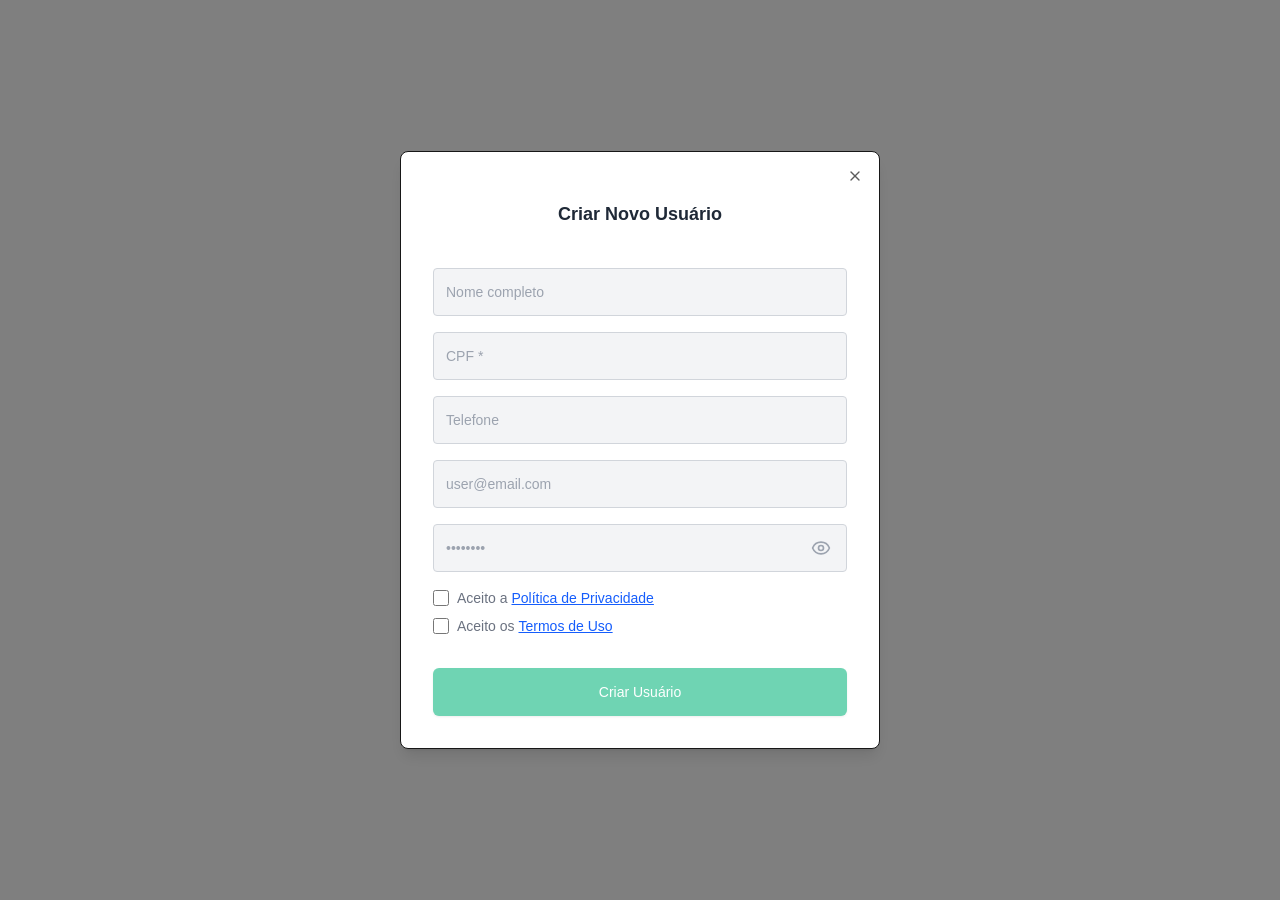
User Registration Flow - Integration › handles server validation errors
This screenshot has width=1280, height=900.
Type "Maria Oliveira" into the field with placeholder "Nome completo".
click(640, 292); type("Maria Oliveira")  # box [433,268,847,316]
Type "98765432100" into the field with placeholder "CPF *".
click(640, 356); type("98765432100")  # box [433,332,847,380]
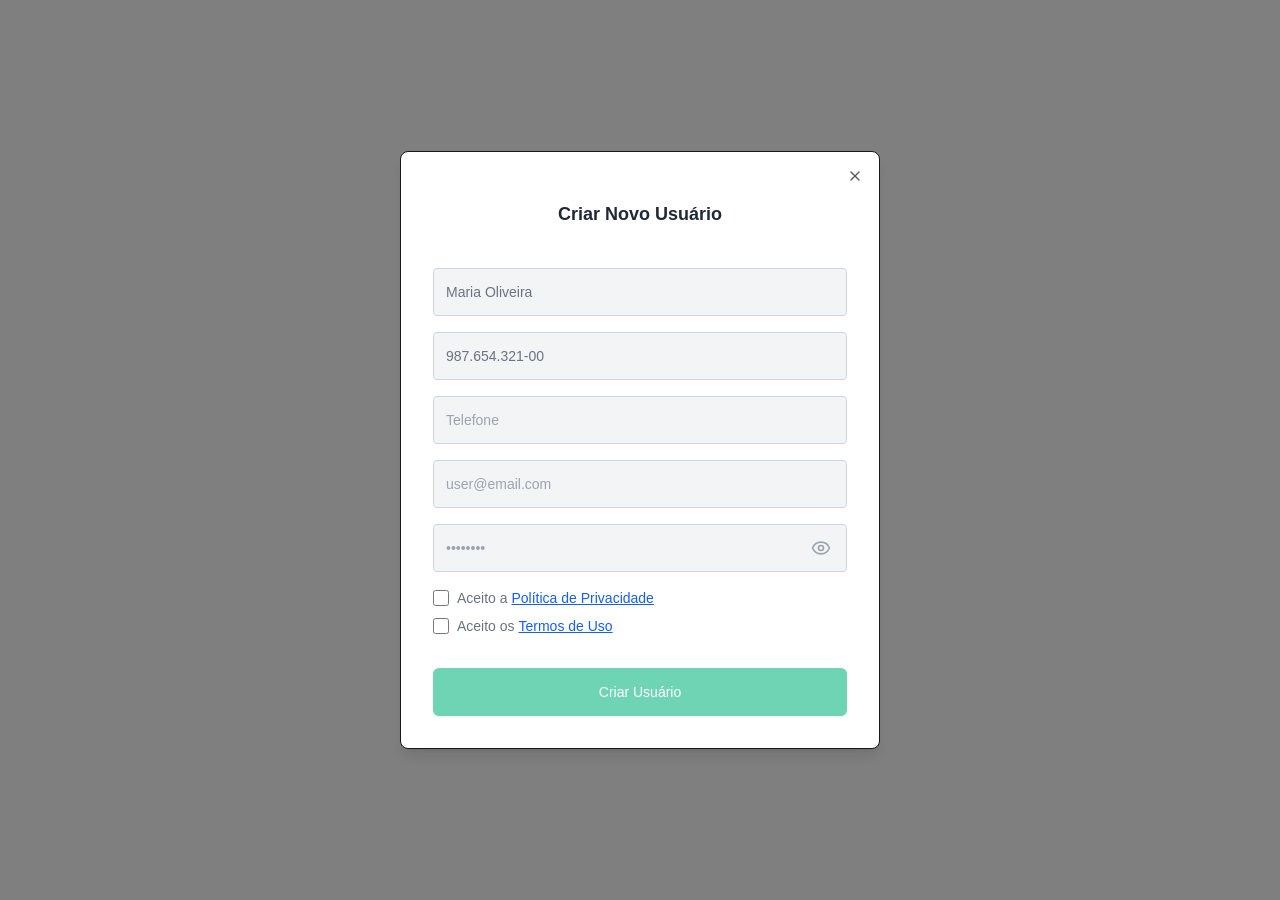
Type "maria@example.com" into the field with placeholder "user@email.com".
click(640, 484); type("maria@example.com")  # box [433,460,847,508]
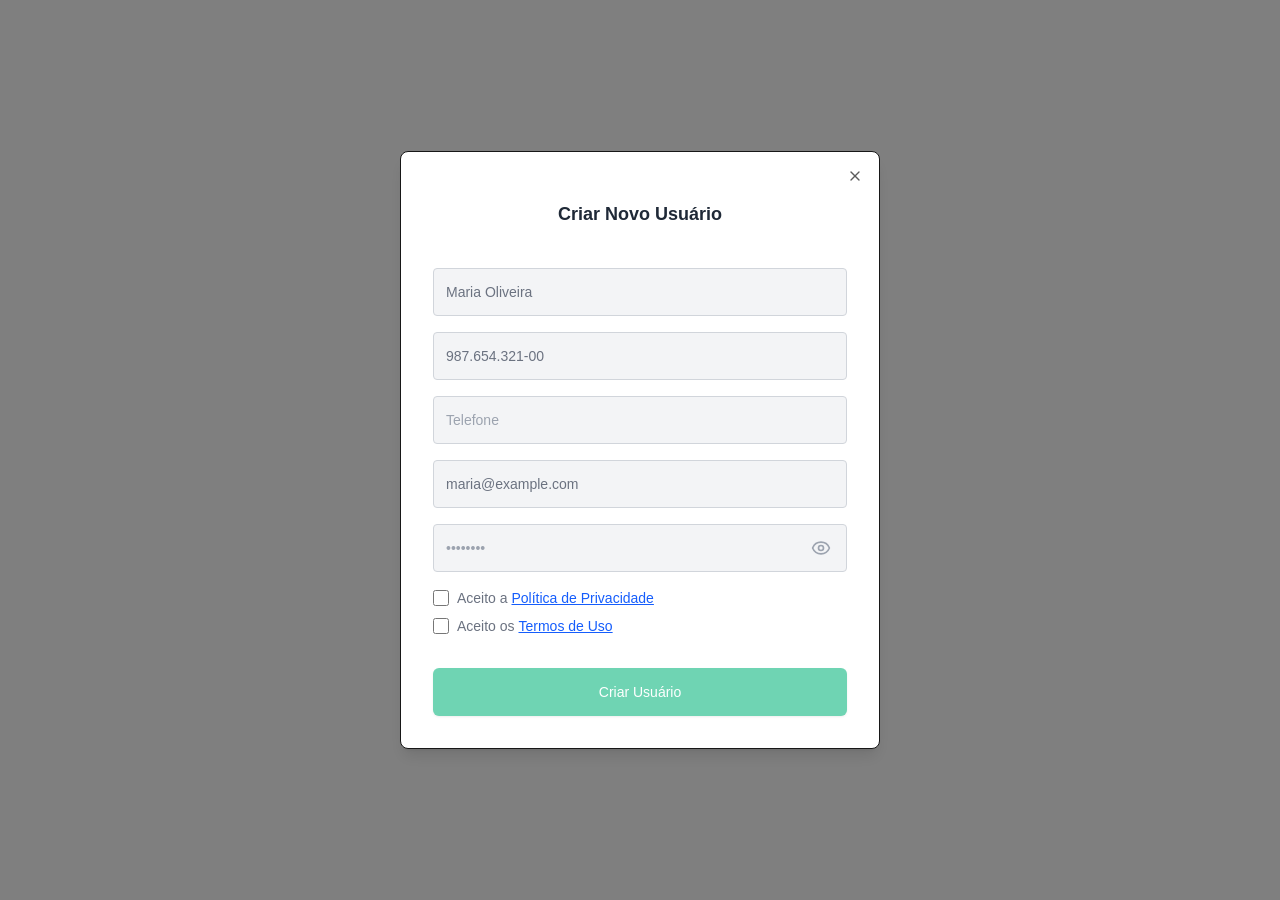
Type "Password123!" into the password field with placeholder "••••••••".
click(640, 548); type("Password123!")  # box [433,524,847,572]
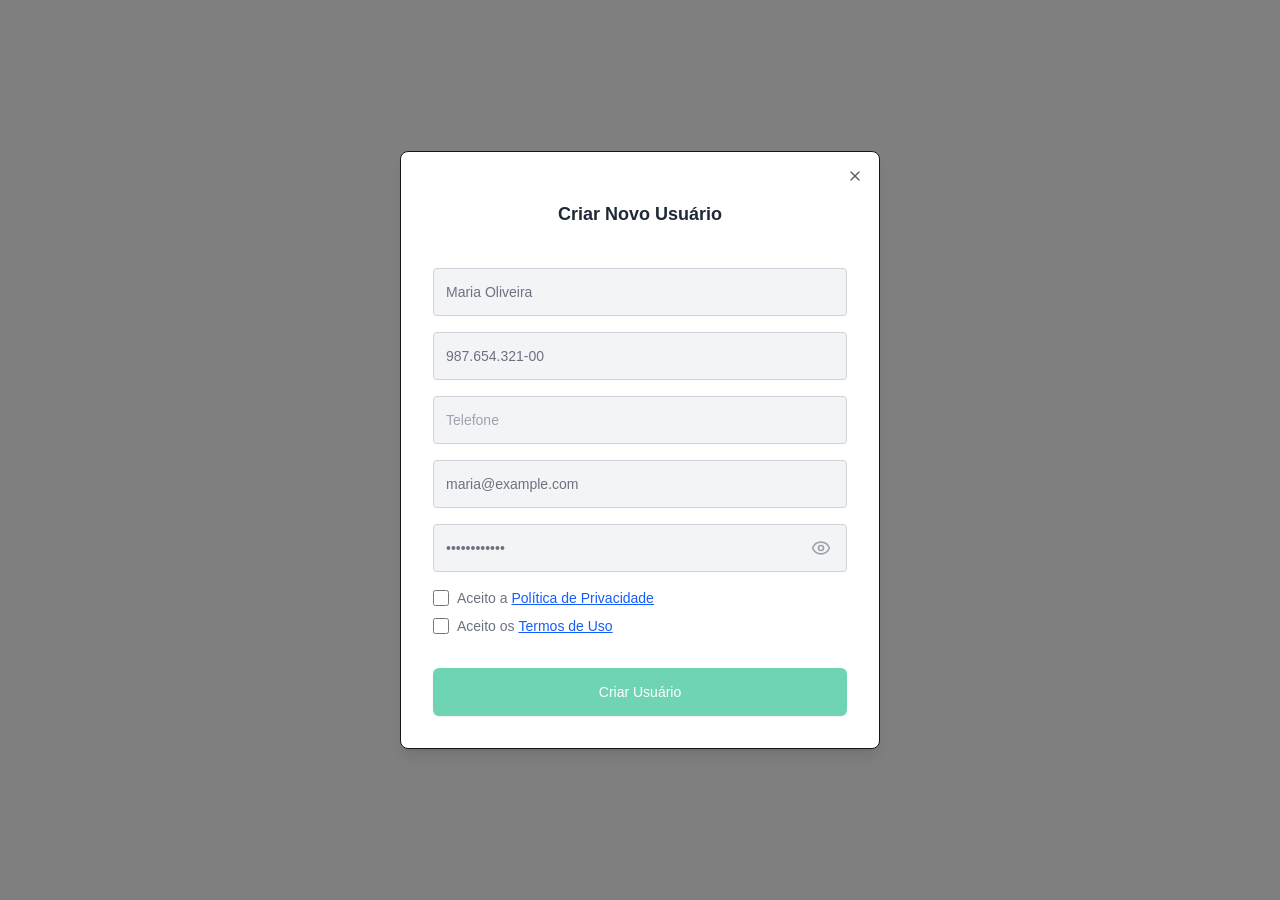
Click the checkbox labelled "Aceito a Política de Privacidade".
click(441, 598)  # box [433,590,449,606]
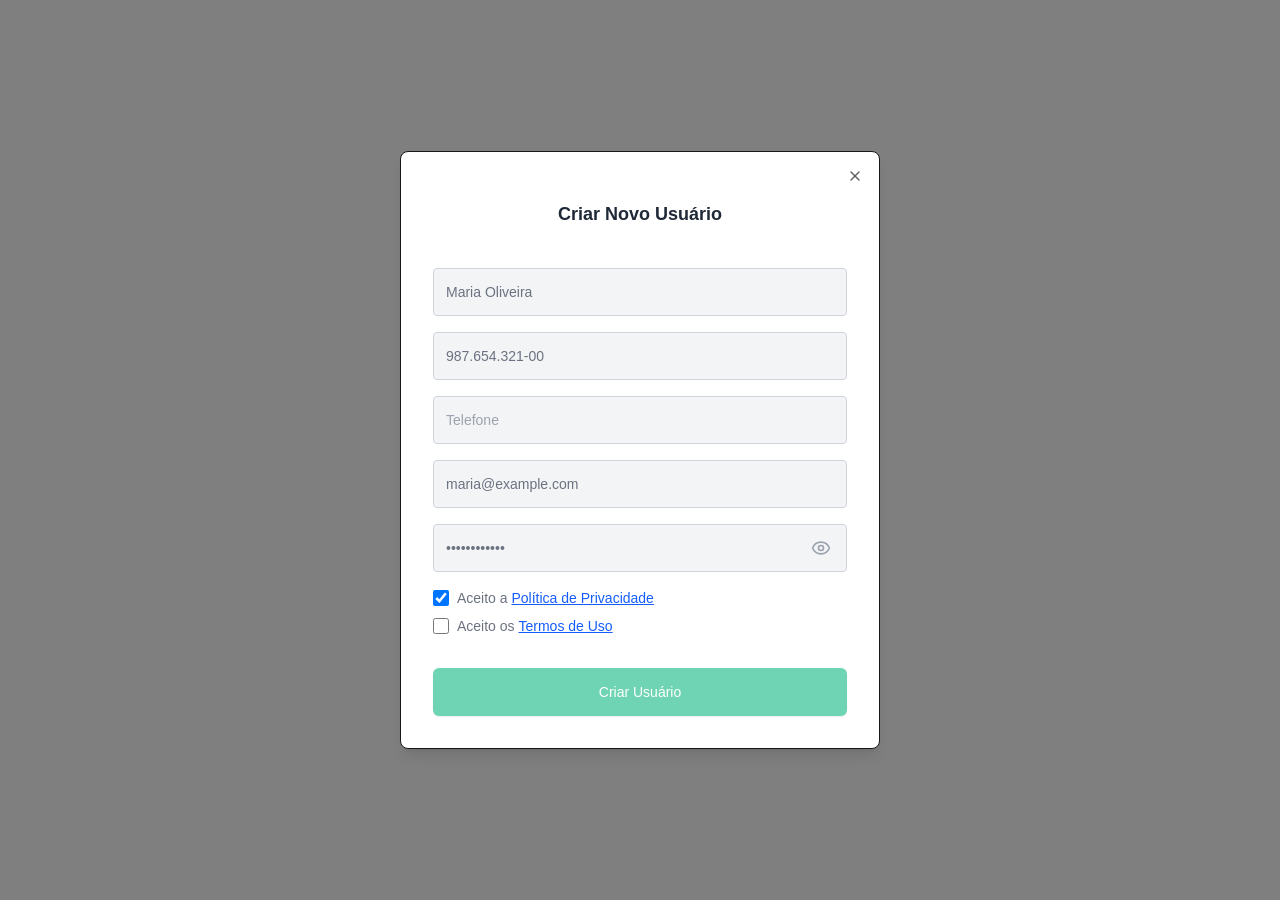
Click the checkbox labelled "Aceito os Termos de Uso".
click(441, 626)  # box [433,618,449,634]
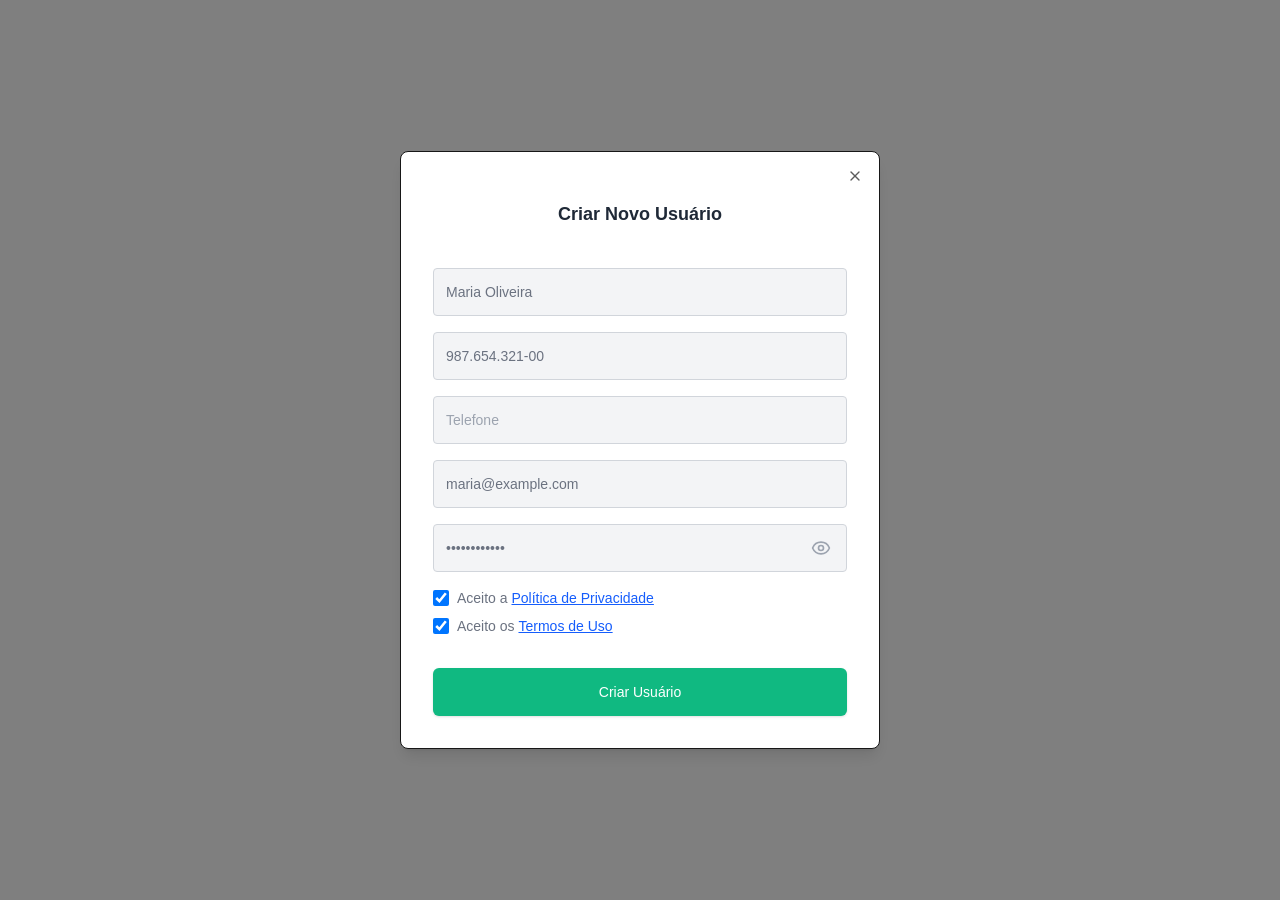
Click the button "Criar Usuário".
click(640, 692)  # box [433,668,847,716]
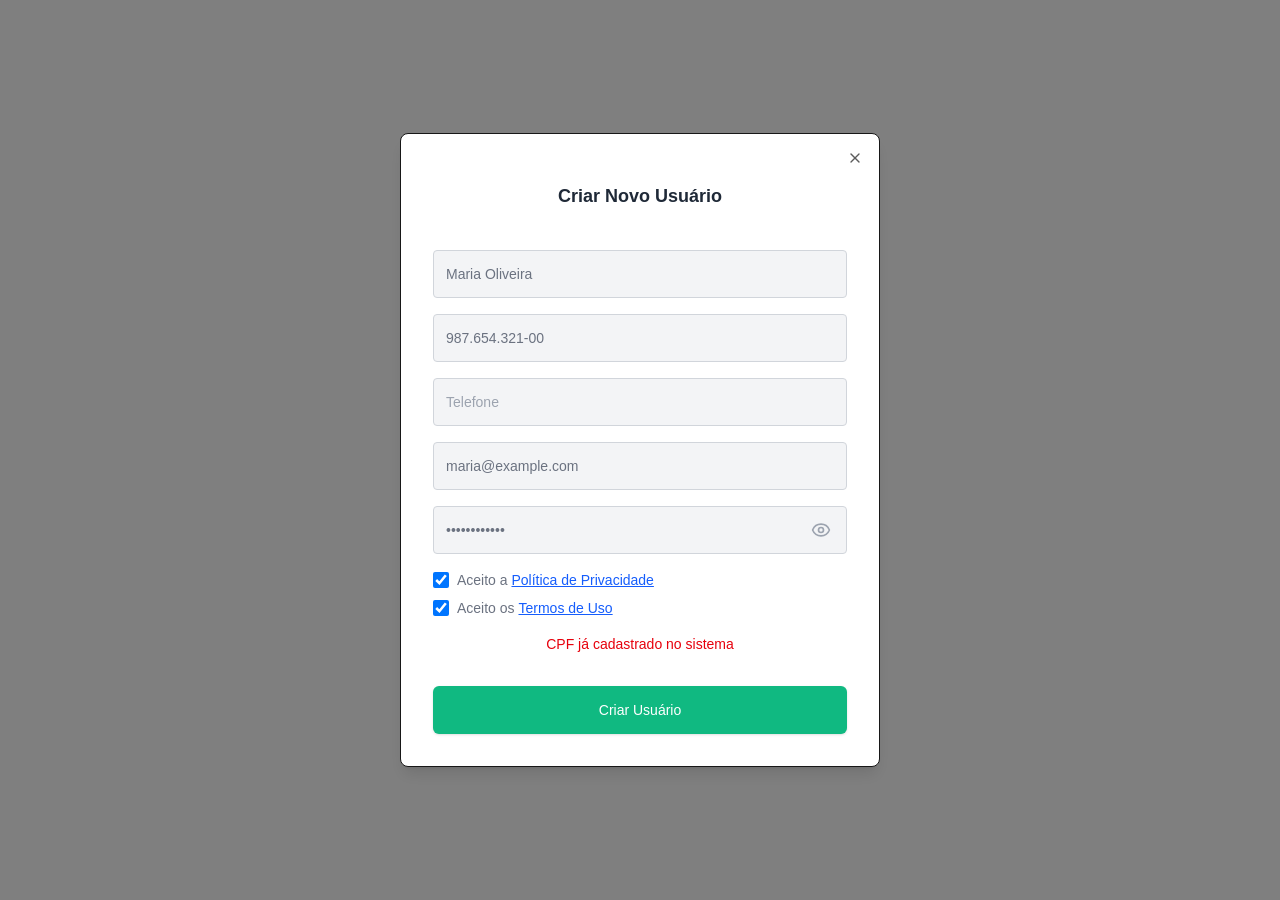
Expected: the text "CPF já cadastrado no sistema" is shown, [546,636,734,652]
